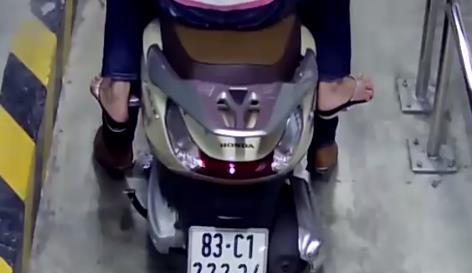lisence: (187, 225, 270, 273)
